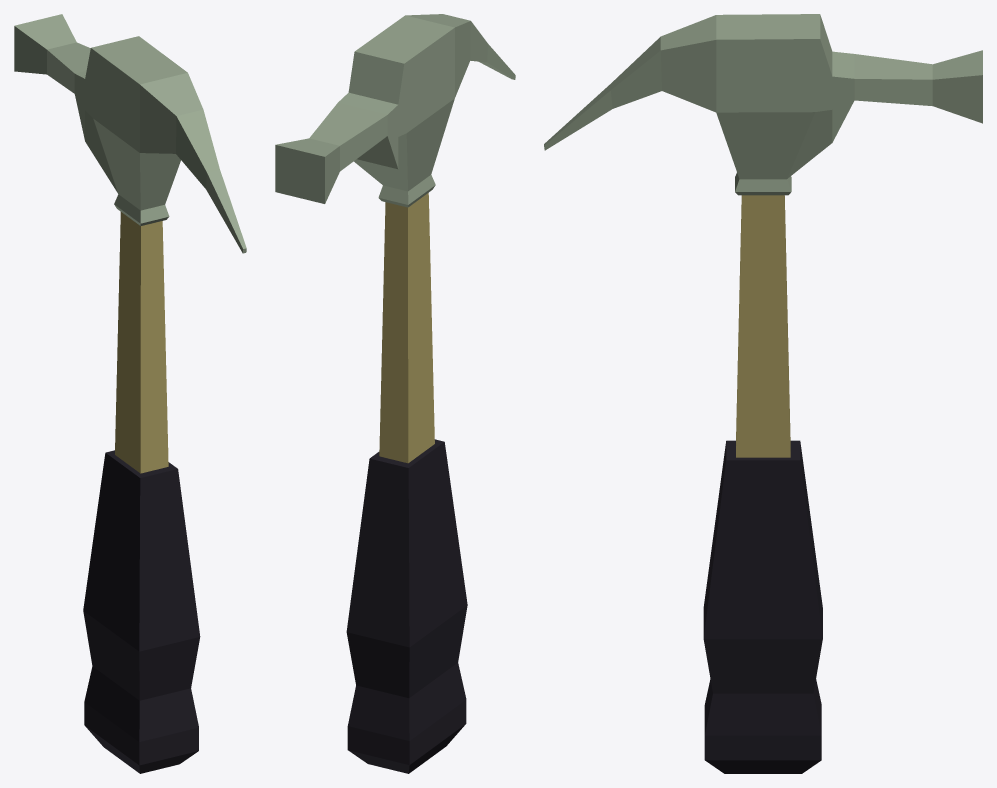
The model's file is Hammer.fbx.
3 views of the same model, side by side, from view 1: azimuth 30°, elevation 25°; view 2: azimuth 150°, elevation 25°; view 3: azimuth 270°, elevation 25° (orthographic). The views are drawn at different scales.
Visible parts, largest first — view 1: Hammer; view 2: Hammer; view 3: Hammer.
Boxes of the visible parts, x1,y1,x2,y2 form: Hammer: (14, 14, 246, 773); Hammer: (275, 14, 515, 773); Hammer: (544, 14, 982, 773).
Size of the model in its own units: 2.36 by 25.7 by 13.87.
